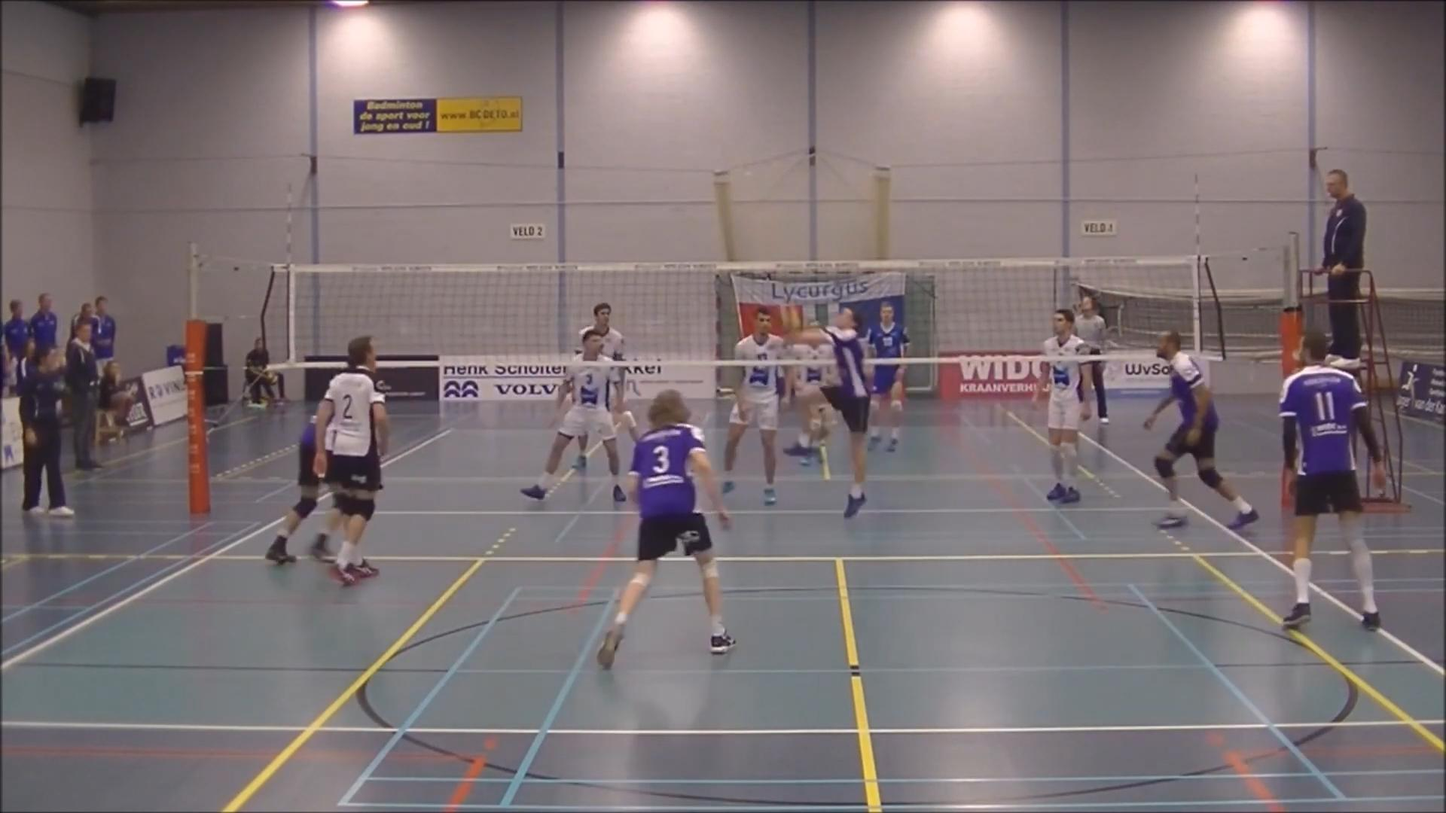Dig: (777, 298, 875, 529)
Player: (596, 391, 735, 668), (1280, 330, 1386, 631), (1144, 331, 1258, 530), (313, 336, 389, 585), (521, 330, 625, 501), (789, 308, 869, 517), (723, 311, 786, 504), (1036, 309, 1091, 503), (265, 416, 320, 563), (867, 303, 909, 451), (785, 344, 832, 465), (578, 303, 624, 361)
